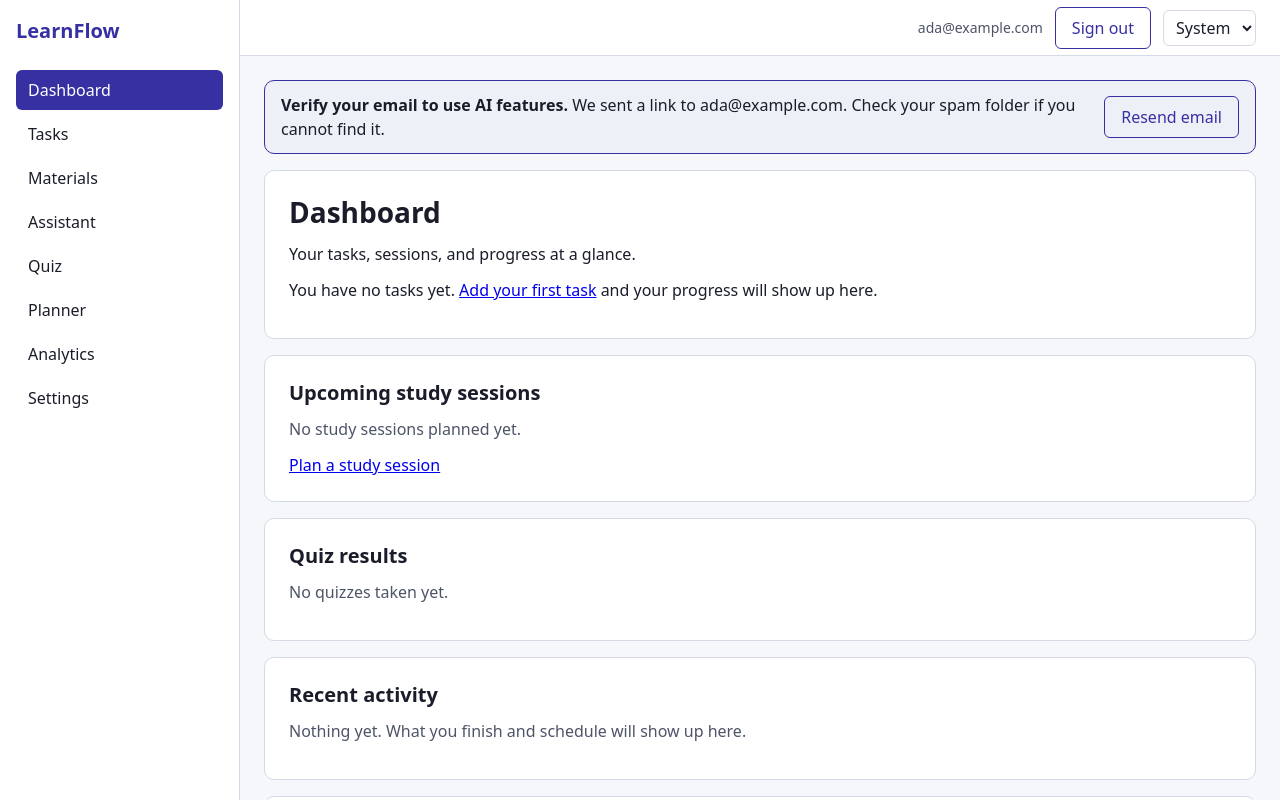
Test case: verification banner › explains when the email could not be sent
This screenshot has width=1280, height=800.
Click the button "Resend email". click: (1172, 117)
box: [1104, 96, 1239, 138]
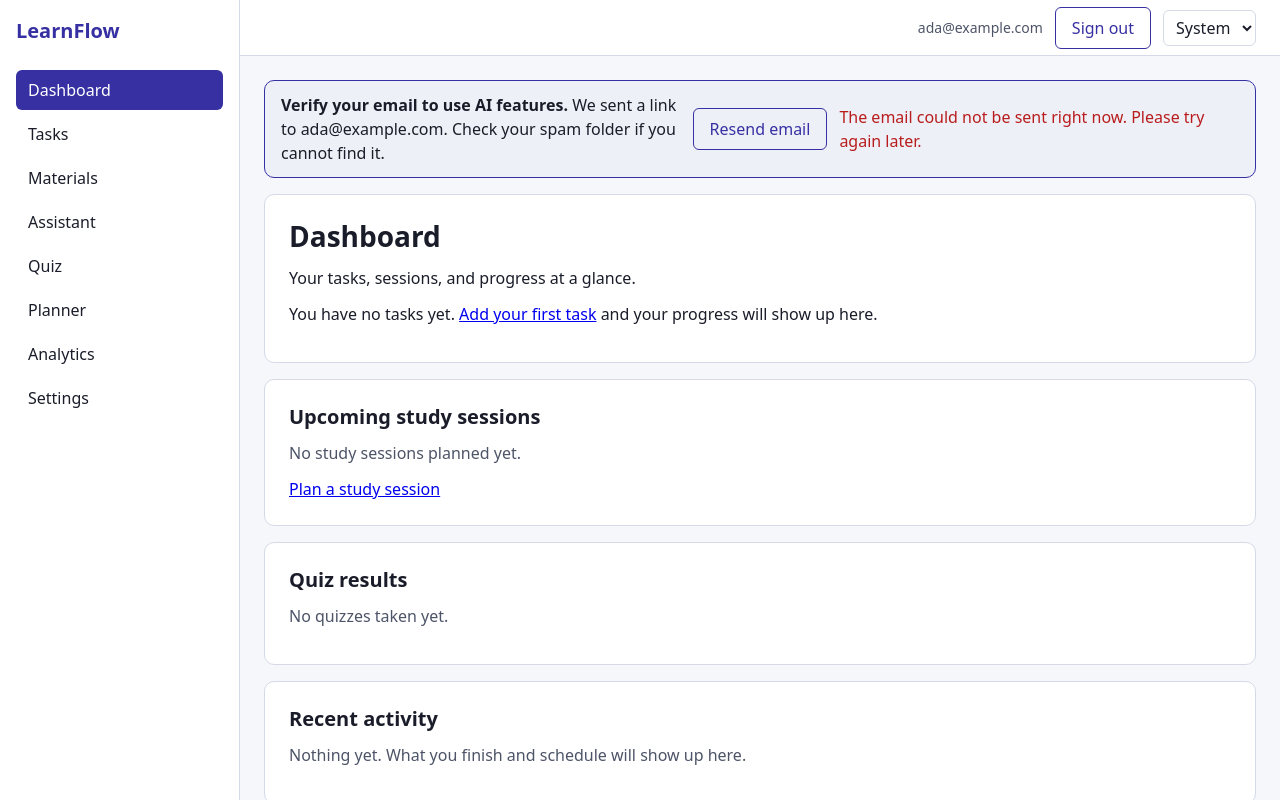
Expected: the message shows "The email could not be sent right now", [839, 106, 1204, 152]
